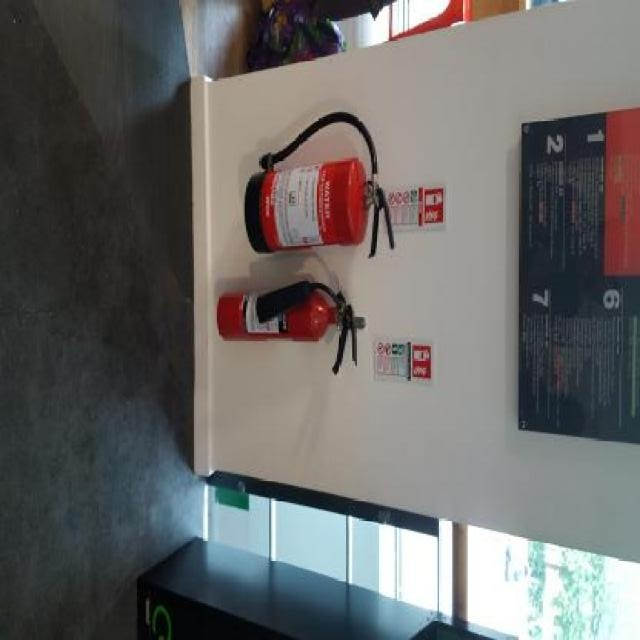fire extinguisher: (240, 116, 398, 261), (219, 283, 364, 359)
